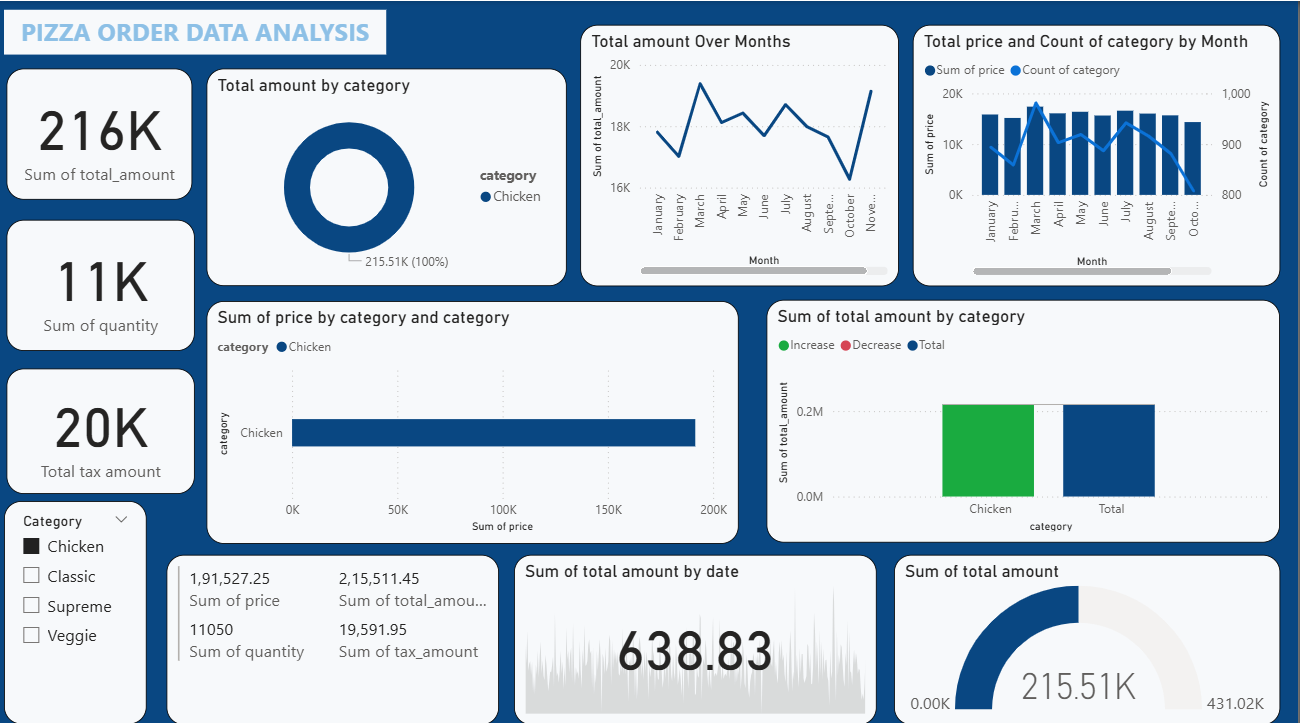

What the dashboard file says about the page in this screenshot:
{"tool":"powerbi","page":{"name":"Pizza Assigment","canvas":[1280,720],"ordinal":0},"visuals":[{"type":"textbox","box":[9.3,8.1,375.6,44.2],"z":0},{"type":"card","fields":{"Values":["Sum(Pizza_Order_Details.total_amount)"]},"box":[12.8,66.3,182.6,129.1],"z":1000},{"type":"multiRowCard","fields":{"Values":["Sum(Pizza_Order_Details.price)","Sum(Pizza_Order_Details.total_amount)","Sum(Pizza_Order_Details.quantity)","Sum(Pizza_Order_Details.tax_amount)"]},"box":[169.8,543,326.7,167.4],"z":2000},{"type":"donutChart","title":" Total amount by category","fields":{"Category":["Pizza_Order_Details.category"],"Y":["Sum(Pizza_Order_Details.total_amount)"]},"box":[208.1,66.3,353.5,214],"z":3000},{"type":"lineStackedColumnComboChart","title":"Total price and Count of category by Month","fields":{"Category":["Pizza_Order_Details.date.Variation.Date Hierarchy.Month"],"Y":["Sum(Pizza_Order_Details.price)"],"Y2":["CountNonNull(Pizza_Order_Details.category)"]},"box":[901.5,23.3,360.9,256.6],"z":4000},{"type":"kpi","title":"Sum of total amount by date","fields":{"Indicator":["Sum(Pizza_Order_Details.total_amount)"],"TrendLine":["Pizza_Order_Details.date"]},"box":[510.5,543,355.8,167.4],"z":5000},{"type":"barChart","fields":{"Category":["Pizza_Order_Details.category"],"Y":["Sum(Pizza_Order_Details.price)"],"Series":["Pizza_Order_Details.category"]},"box":[208.1,294.2,522.1,238.4],"z":6000},{"type":"waterfallChart","title":"Sum of total amount by category","fields":{"Category":["Pizza_Order_Details.category"],"Y":["Sum(Pizza_Order_Details.total_amount)"]},"box":[758.8,293.7,503.6,238.8],"z":7000},{"type":"gauge","title":"Sum of total amount","fields":{"Y":["Sum(Pizza_Order_Details.total_amount)"]},"box":[883.7,543,379.1,167.4],"z":8000},{"type":"slicer","fields":{"Values":["Pizza_Order_Details.category"]},"box":[9.6,491.3,140,219.6],"z":9000},{"type":"lineChart","title":"Total amount Over Months","fields":{"Y":["Sum(Pizza_Order_Details.total_amount)"],"Category":["Pizza_Order_Details.date.Variation.Date Hierarchy.Month"]},"box":[575.5,23.3,312.9,256.4],"z":10000},{"type":"card","fields":{"Values":["Sum(Pizza_Order_Details.quantity)"]},"box":[12.8,215.1,184.9,129.1],"z":11000},{"type":"card","fields":{"Values":["Sum(Pizza_Order_Details.tax_amount)"]},"box":[12.8,360.5,184.9,123.3],"z":12000}]}

Visuals, with their boxes in screenshot pixels (x1, y1, x2, y2), scaled from the page's 1280x720 canvas onto the 1300x723 screenshot:
textbox: bbox(9, 8, 391, 53)
card - Sum(Pizza_Order_Details.total_amount): bbox(13, 67, 198, 196)
multiRowCard - Sum(Pizza_Order_Details.price) x Sum(Pizza_Order_Details.total_amount): bbox(172, 545, 504, 713)
" Total amount by category" donutChart: bbox(211, 67, 570, 281)
"Total price and Count of category by Month" lineStackedColumnComboChart: bbox(916, 23, 1282, 281)
"Sum of total amount by date" kpi: bbox(518, 545, 880, 713)
barChart - Pizza_Order_Details.category x Sum(Pizza_Order_Details.price): bbox(211, 295, 742, 535)
"Sum of total amount by category" waterfallChart: bbox(771, 295, 1282, 535)
"Sum of total amount" gauge: bbox(898, 545, 1283, 713)
slicer - Pizza_Order_Details.category: bbox(10, 493, 152, 714)
"Total amount Over Months" lineChart: bbox(584, 23, 902, 281)
card - Sum(Pizza_Order_Details.quantity): bbox(13, 216, 201, 346)
card - Sum(Pizza_Order_Details.tax_amount): bbox(13, 362, 201, 486)
